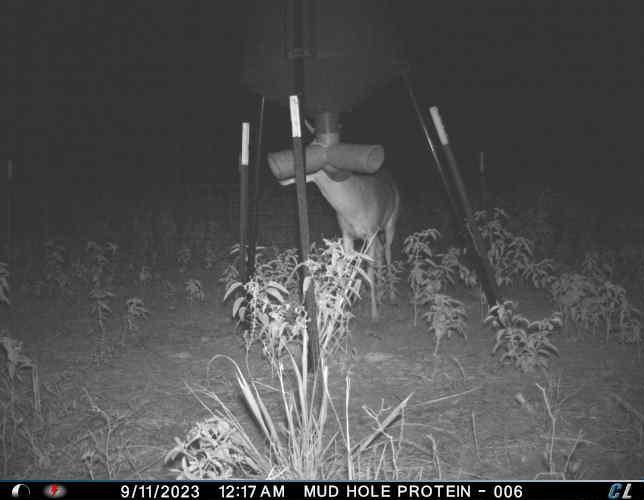Deer: (282, 118, 404, 322)
